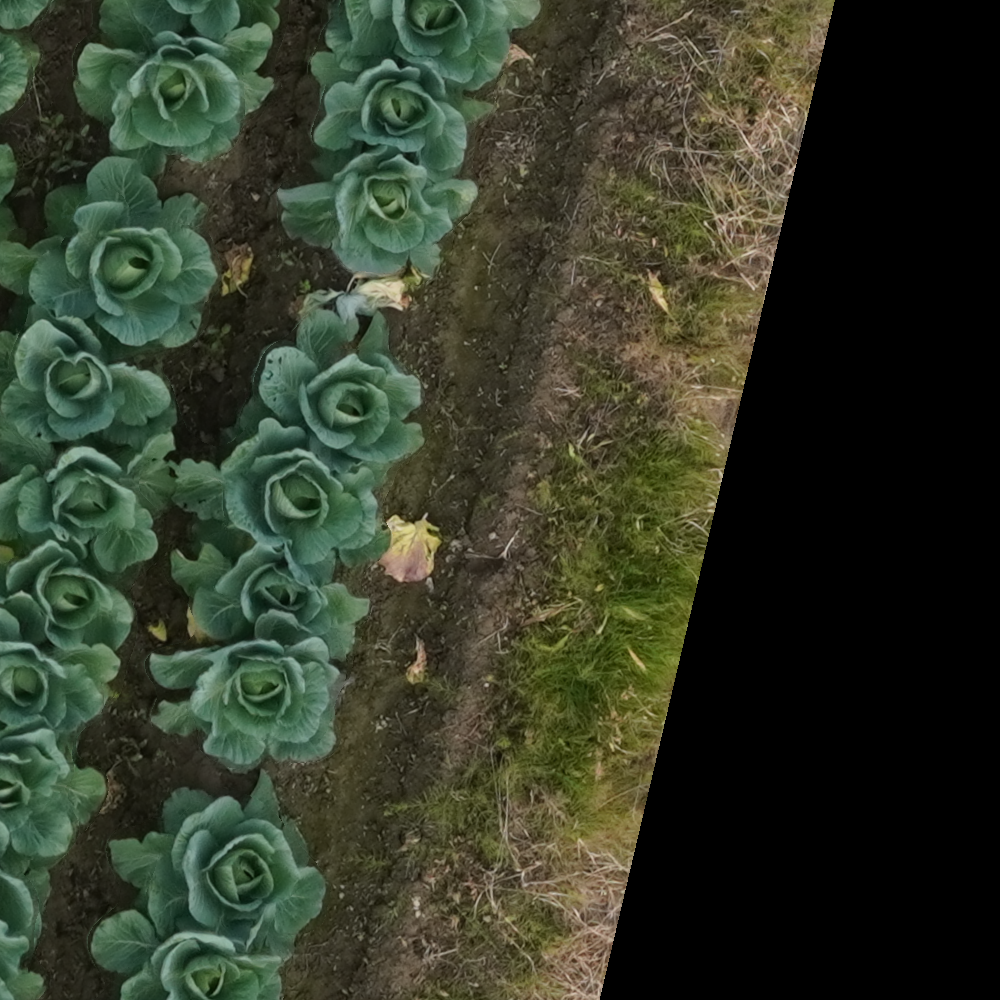Cabbage: (0, 156, 218, 351), (169, 393, 391, 583), (110, 771, 328, 961), (73, 0, 274, 173), (148, 613, 346, 774), (277, 142, 479, 281), (0, 416, 178, 571), (259, 307, 426, 472), (0, 304, 178, 451), (172, 543, 370, 664), (311, 52, 494, 179), (328, 0, 541, 92), (90, 908, 283, 1000), (0, 593, 121, 733), (0, 722, 106, 868), (3, 542, 134, 649), (0, 824, 50, 1000)
